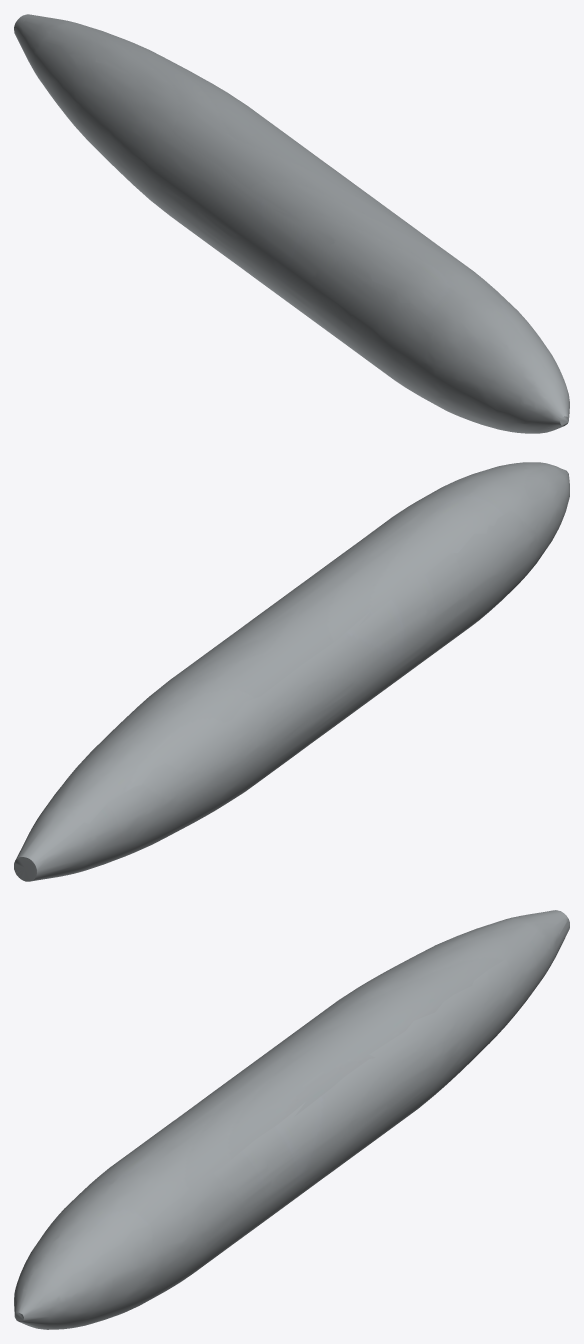
File: typhoontank1000l.glb
3 renders of one model, top to bottom at view 1: azimuth 30°, elevation 25°; view 2: azimuth 150°, elevation 25°; view 3: azimuth 330°, elevation 25°, orthographic.
Parts seen in each view (by area): view 1: airframe; view 2: airframe; view 3: airframe.
Part boxes in pixels (<box>): airframe: <box>14,14,569,433</box>; airframe: <box>14,462,569,881</box>; airframe: <box>14,910,569,1329</box>.
Bounding box in the file's own units: 0.6169 × 0.6173 × 4.93.
Materials: 1 (1 with a texture image).
